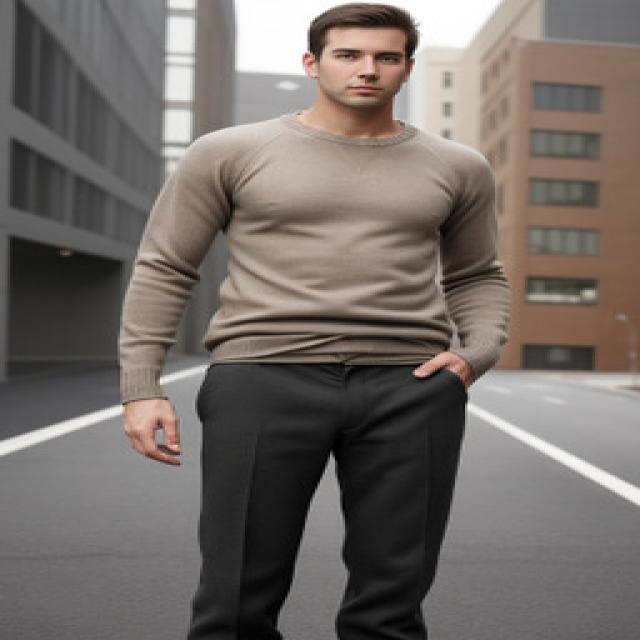Ai human 2: (107, 0, 542, 640)
